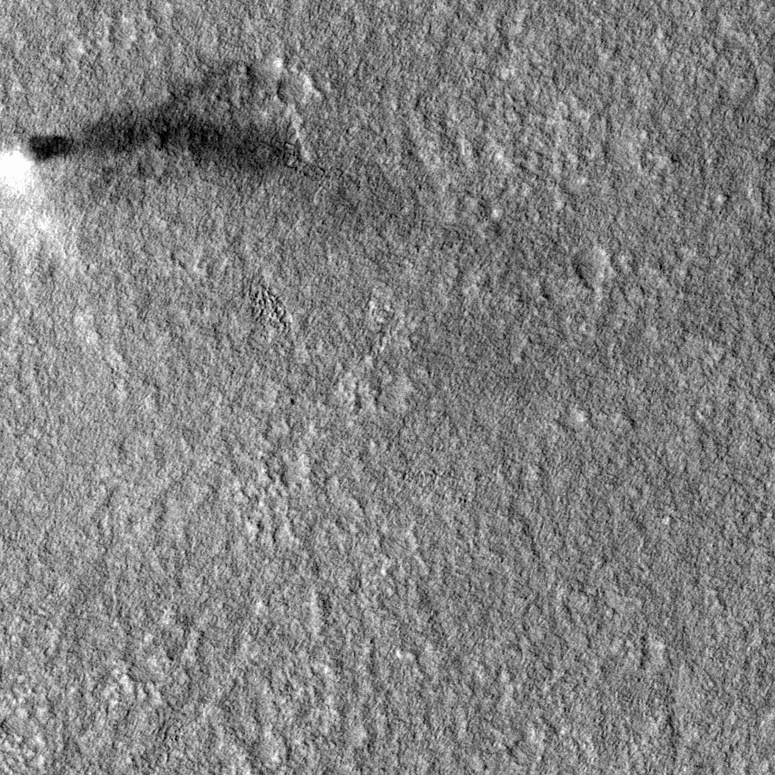dust_devil: (1, 55, 298, 204)
